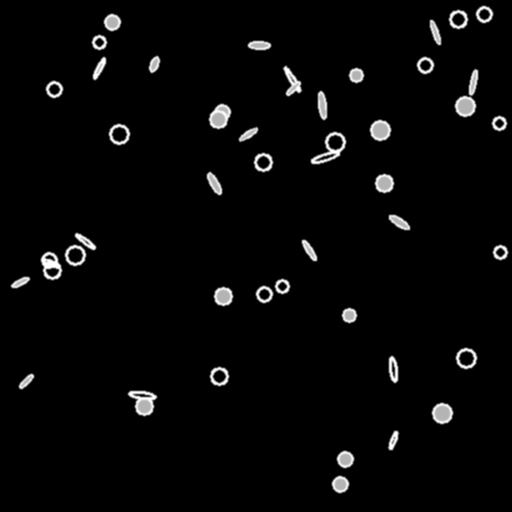pseudomonas: (282, 65, 302, 93), (205, 171, 223, 195), (310, 150, 340, 164), (74, 232, 96, 250), (428, 19, 442, 45), (91, 57, 107, 79), (301, 239, 317, 261), (388, 214, 410, 230), (238, 126, 258, 142), (317, 91, 327, 119), (128, 390, 156, 400), (388, 356, 398, 382), (18, 373, 34, 389), (10, 276, 30, 288), (387, 430, 399, 450), (468, 70, 478, 94), (41, 257, 61, 269), (286, 81, 300, 95), (149, 56, 159, 72), (249, 41, 269, 49)
synechocystis: (371, 121, 389, 139), (110, 125, 128, 143), (326, 133, 344, 151), (66, 246, 84, 264), (457, 349, 475, 367), (456, 97, 474, 115), (433, 404, 451, 422), (215, 288, 231, 304), (255, 154, 271, 170), (450, 11, 466, 27), (211, 368, 227, 384), (44, 262, 60, 278), (376, 175, 392, 191), (136, 398, 152, 414), (210, 111, 226, 127), (257, 287, 271, 301), (418, 58, 432, 72), (477, 7, 491, 21), (105, 15, 119, 29), (333, 477, 347, 491), (215, 105, 229, 119), (338, 452, 352, 466), (47, 82, 61, 96), (42, 253, 56, 267), (493, 117, 505, 129), (494, 246, 506, 258), (276, 280, 288, 292), (93, 36, 105, 48), (350, 69, 362, 81), (343, 309, 355, 321)
